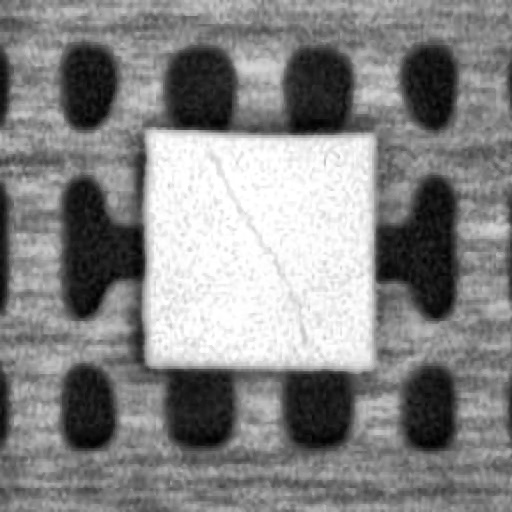DIE_CRACK: (202, 143, 305, 340)
